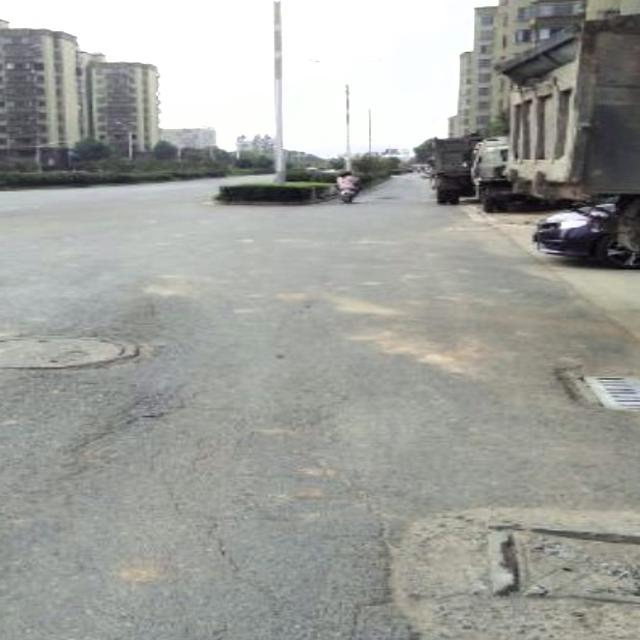broke: (482, 508, 640, 620)
